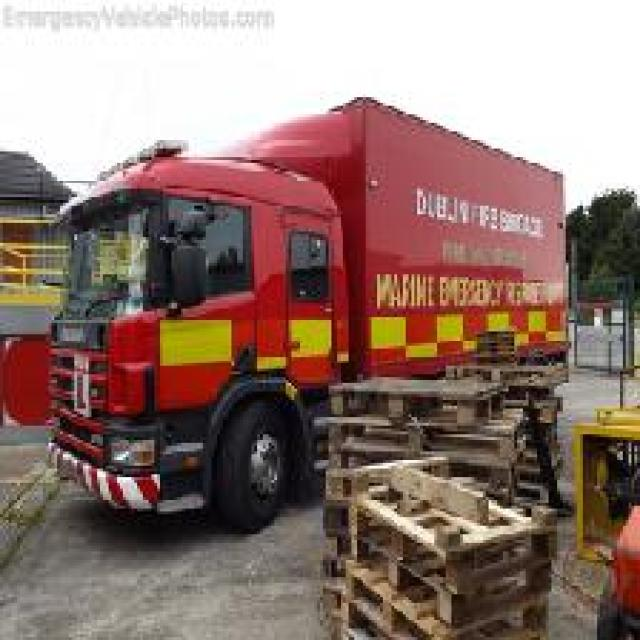Fire-truck: (37, 91, 572, 532)
